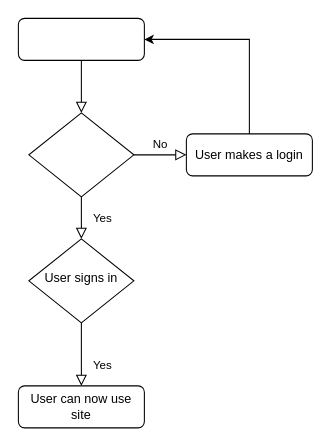
Some shapes in this 331 by 446 pixel diagram are drawn without their labels. The centre of each missing label's shape, as x and y in pixels:
"User goes to login page" belongs at point (80, 38).
"User has login details" belongs at point (81, 154).
